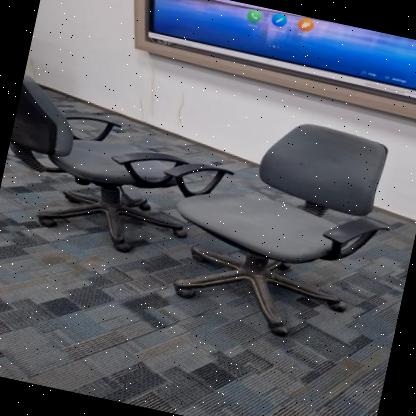chair: (136, 86, 415, 360), (0, 61, 220, 272)
